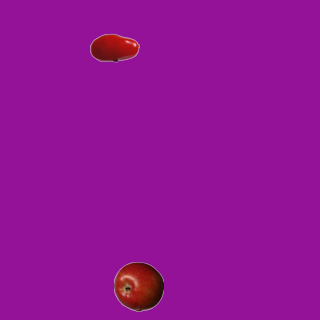Apple Braeburn: (113, 261, 163, 311)
Tomato 2: (89, 22, 139, 72)
